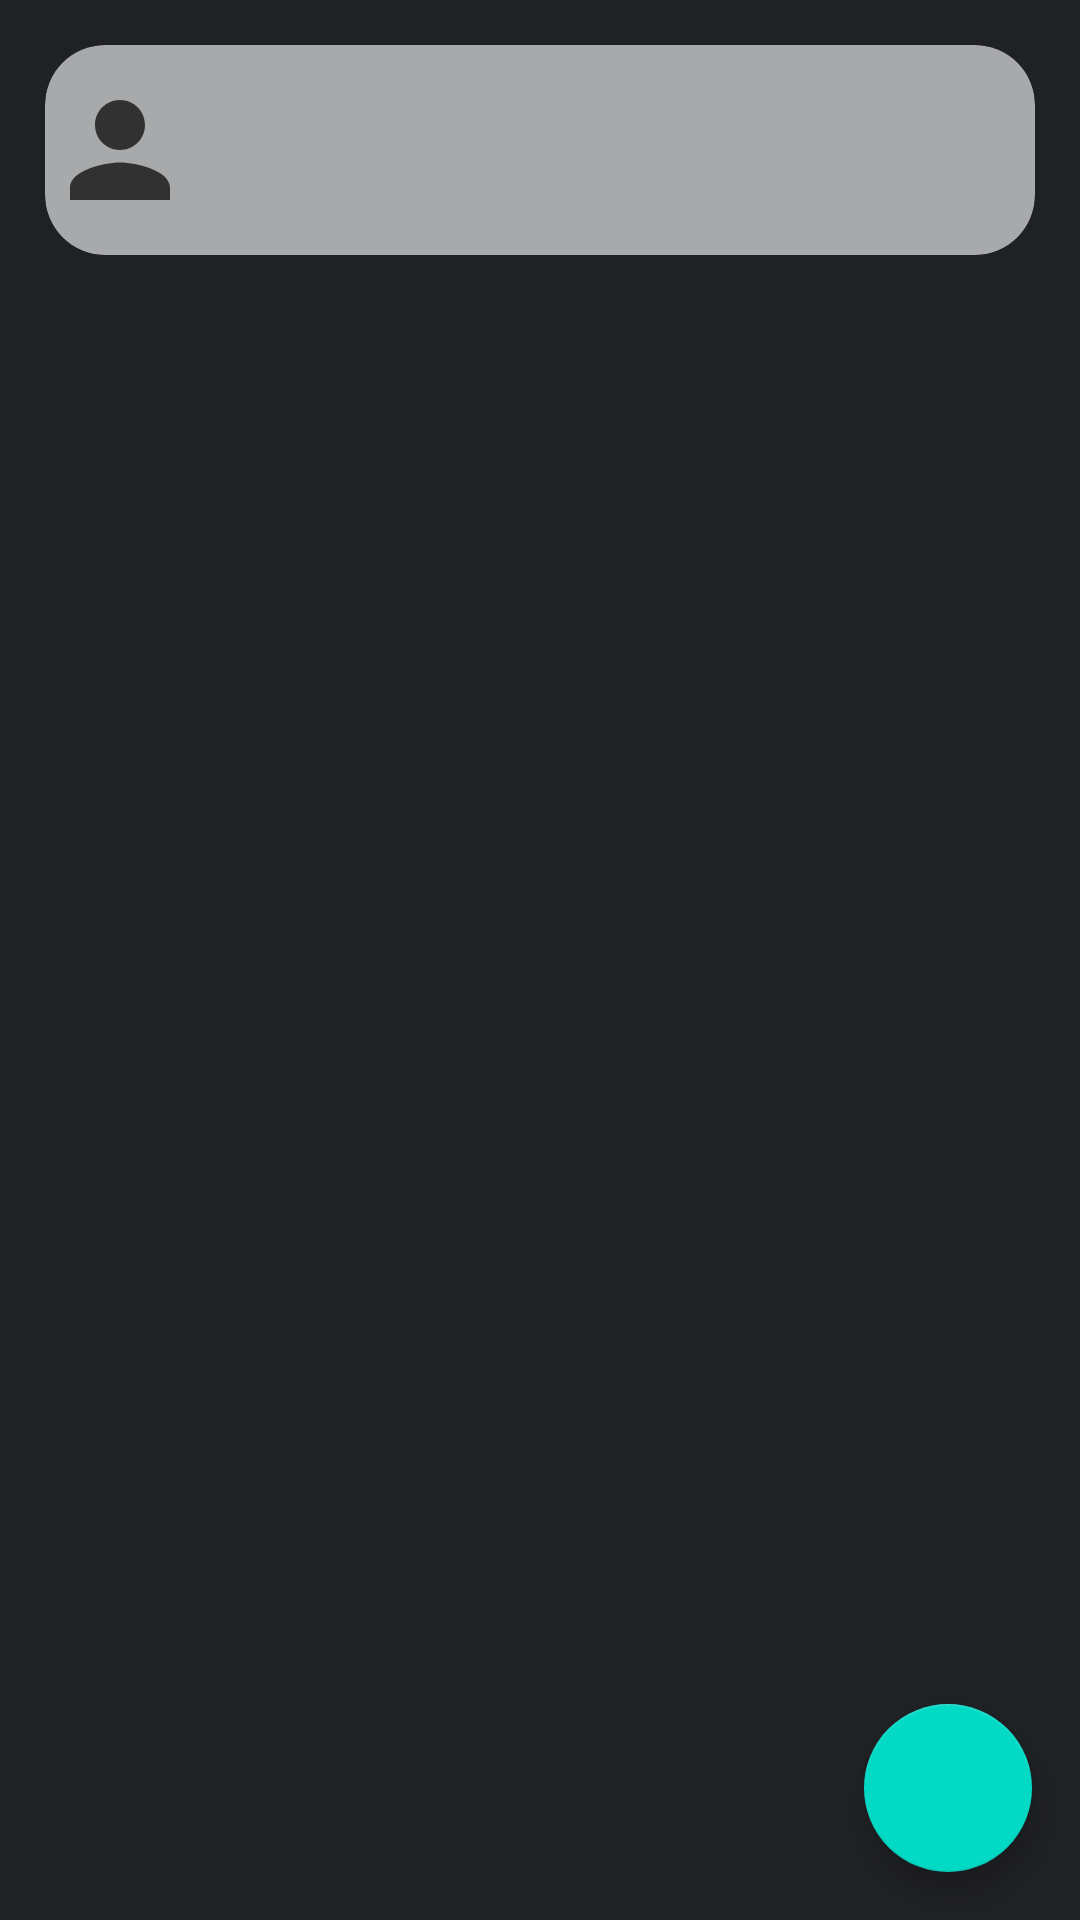

Named icons in this screenshot (1080 x 1920) and their bounding boxes, (x1, y1, x2, y2):
person: (70, 100, 170, 200)
